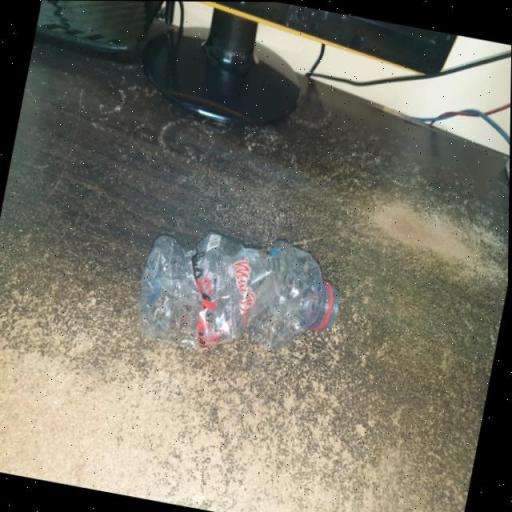plastic: (127, 216, 352, 378)
